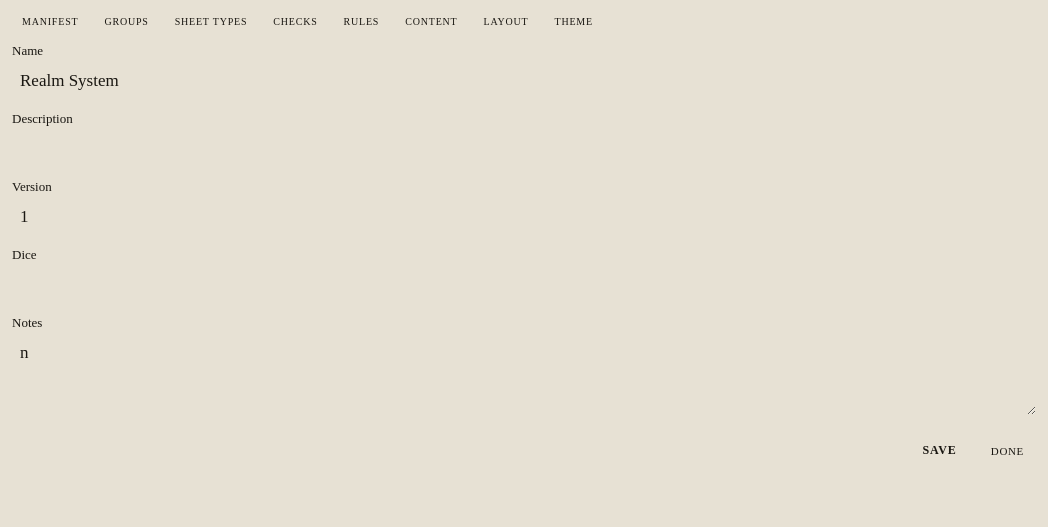
a refused Save preview explains the failure and keeps the draft for retry
Replace the text in the field labelled "Name" with "Realm revised": point(524, 81) [12,63,1036,99]
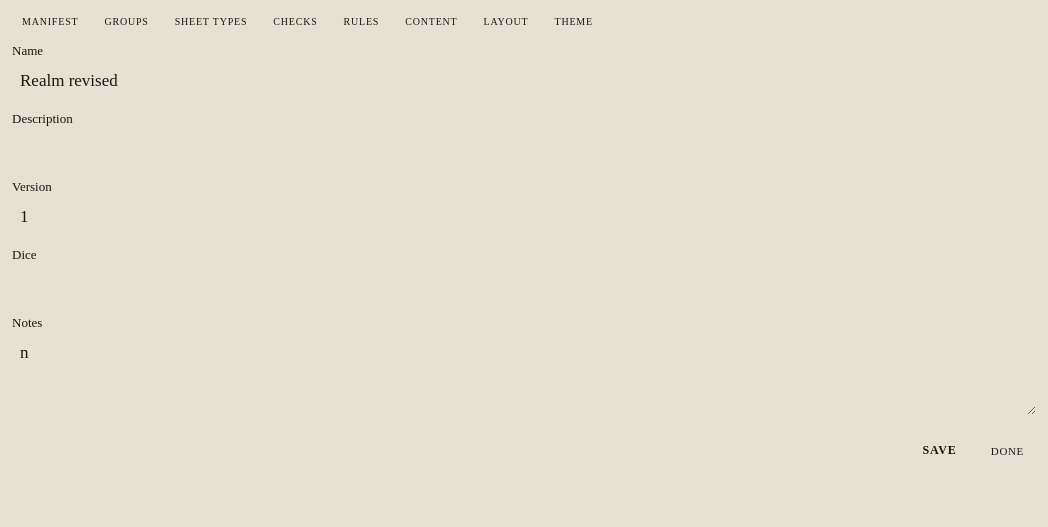
Click the button "Save": point(940, 450) [908,435,971,466]
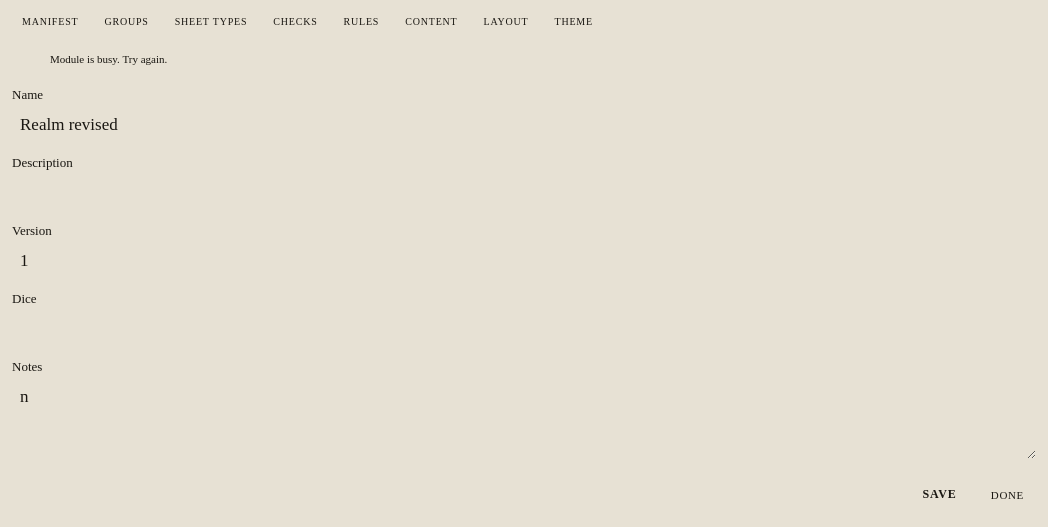
Check: the text "Module is busy. Try again." is shown, box [50,53,167,65]
Click the button "Save": point(940, 494) [908,479,971,510]
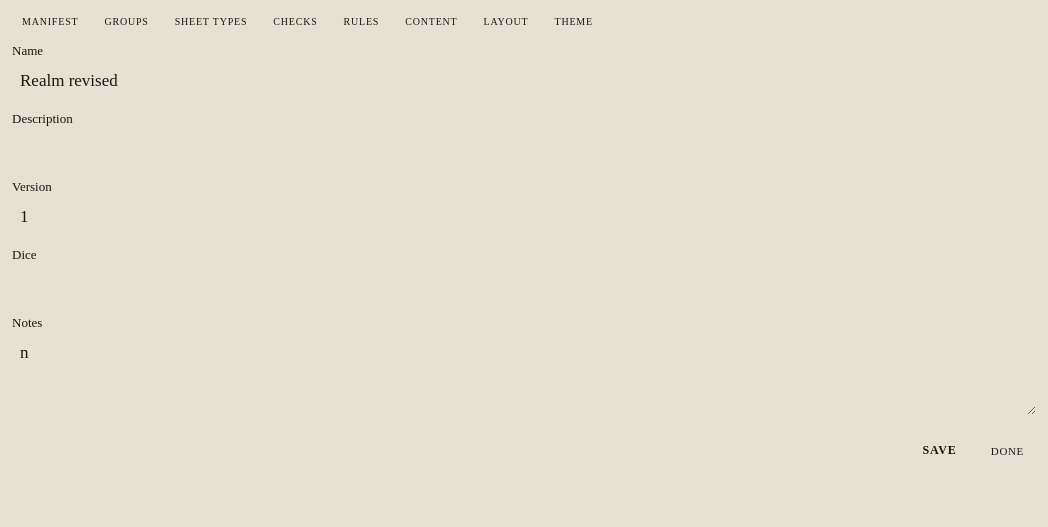
Check: the text "Module is busy. Try again." is gone
